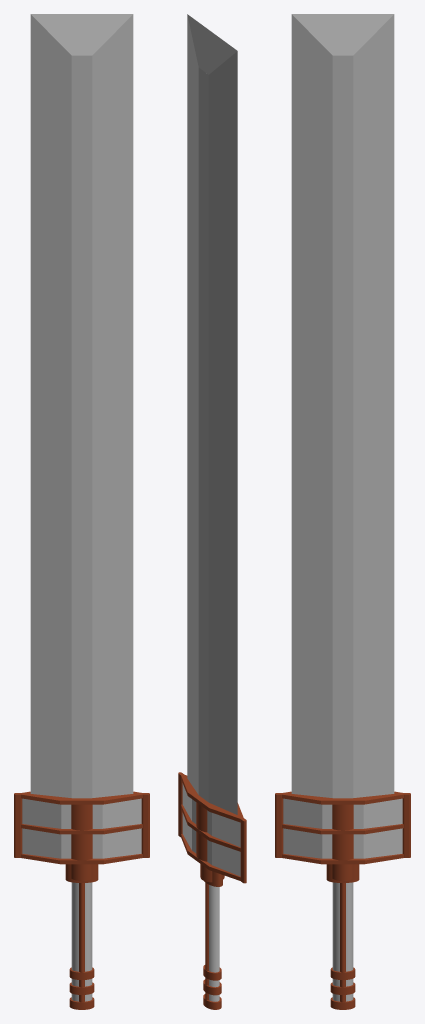
Rendered from heavybrute-class-melle.obj.
The picture shows the model from 3 angles, left to right: view 1: azimuth 90°, elevation 25°; view 2: azimuth 210°, elevation 25°; view 3: azimuth 270°, elevation 25°; orthographic projection. The views are drawn at different scales.
Visible parts, largest first — view 1: Part2, Part5, Part1, Union1, Hilt1, Part6, Part11, Handle1, Part8; view 2: Part4, Part3, Part1, Union1, Hilt1, Handle1, Part7, Part10, Part9; view 3: Part3, Part4, Part1, Union1, Hilt1, Part7, Part10, Handle1, Part9.
Boxes of the visible parts, box(x1,y1,x2,y2) form: Part2: box(30, 51, 71, 797); Part5: box(92, 51, 133, 797); Part1: box(71, 55, 92, 798); Union1: box(14, 791, 149, 1009); Hilt1: box(22, 798, 141, 858); Part6: box(30, 14, 71, 55); Part11: box(92, 14, 133, 55); Handle1: box(71, 882, 92, 1001); Part8: box(71, 14, 92, 55); Part4: box(208, 75, 237, 814); Part3: box(187, 51, 198, 794); Part1: box(198, 68, 208, 801); Union1: box(178, 772, 246, 1009); Hilt1: box(182, 783, 240, 876); Handle1: box(209, 885, 219, 1001); Part7: box(209, 36, 237, 87); Part10: box(187, 14, 207, 66); Part9: box(198, 29, 217, 74); Part3: box(291, 51, 332, 797); Part4: box(353, 51, 394, 797); Part1: box(332, 55, 353, 798); Union1: box(275, 791, 410, 1009); Hilt1: box(283, 798, 402, 858); Part7: box(353, 14, 394, 55); Part10: box(291, 14, 332, 55); Handle1: box(332, 882, 353, 1001); Part9: box(332, 14, 353, 55).
Size of the model in its own units: 0.4 by 13.3 by 1.65.
